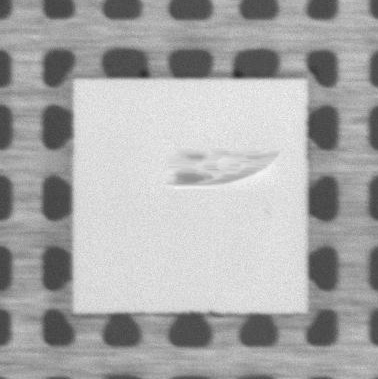DIE_INK: (163, 146, 282, 193)
